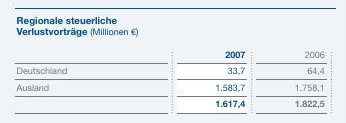table: (0, 0, 346, 123)
